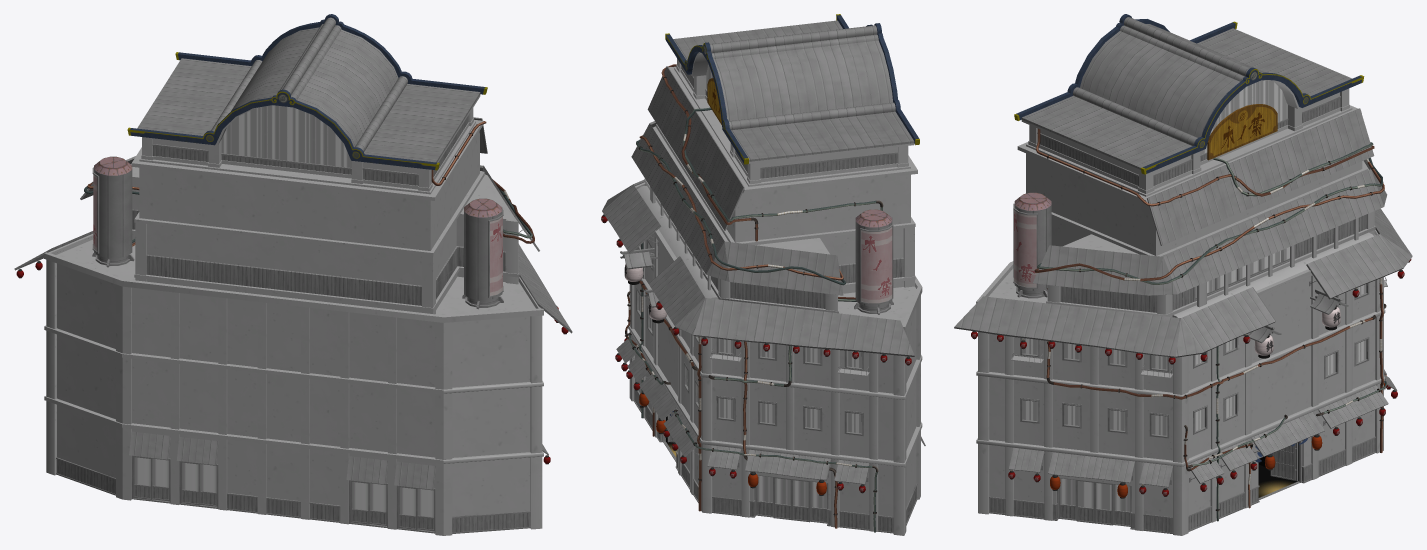
File: SM_ENV_LKNVLD_Shop_Structure.FBX
3 views of the same model, side by side, from view 1: azimuth 30°, elevation 25°; view 2: azimuth 150°, elevation 25°; view 3: azimuth 270°, elevation 25° (orthographic). The views are drawn at different scales.
Visible parts, largest first — view 1: SM_ENV_LKNVLD_Shop_Structure; view 2: SM_ENV_LKNVLD_Shop_Structure; view 3: SM_ENV_LKNVLD_Shop_Structure.
Part boxes in pixels (left/top/right/bottom): SM_ENV_LKNVLD_Shop_Structure: left=14, top=14, right=572, bottom=535; SM_ENV_LKNVLD_Shop_Structure: left=601, top=14, right=925, bottom=535; SM_ENV_LKNVLD_Shop_Structure: left=954, top=14, right=1412, bottom=535.
Bounding box in the file's own units: 3583 × 3554 × 3583.
